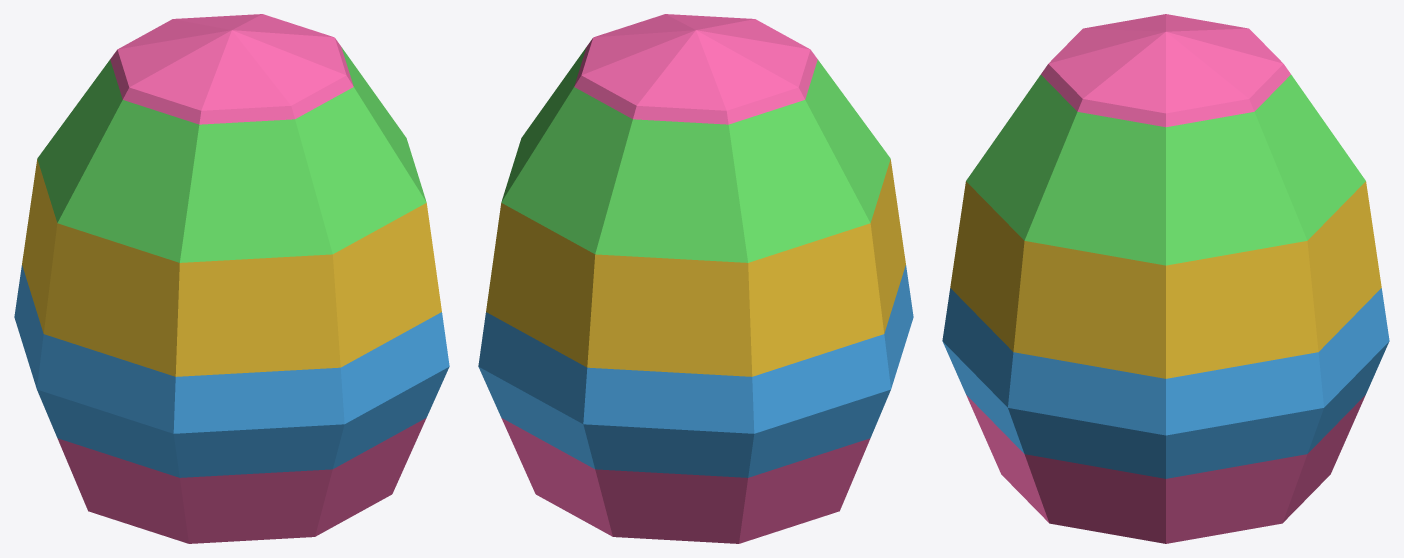
File: EasterEgg.fbx
The picture shows the model from 3 angles, left to right: view 1: azimuth 30°, elevation 25°; view 2: azimuth 150°, elevation 25°; view 3: azimuth 270°, elevation 25°; orthographic projection.
Parts seen in each view (by area): view 1: EasterEgg; view 2: EasterEgg; view 3: EasterEgg.
Boxes of the visible parts, box(x1,y1,x2,y2) form: EasterEgg: box(14, 14, 449, 543); EasterEgg: box(478, 14, 913, 543); EasterEgg: box(942, 14, 1389, 543).
Size of the model in its own units: 0.76 by 0.88 by 0.76.
1 material, 1 textured.
